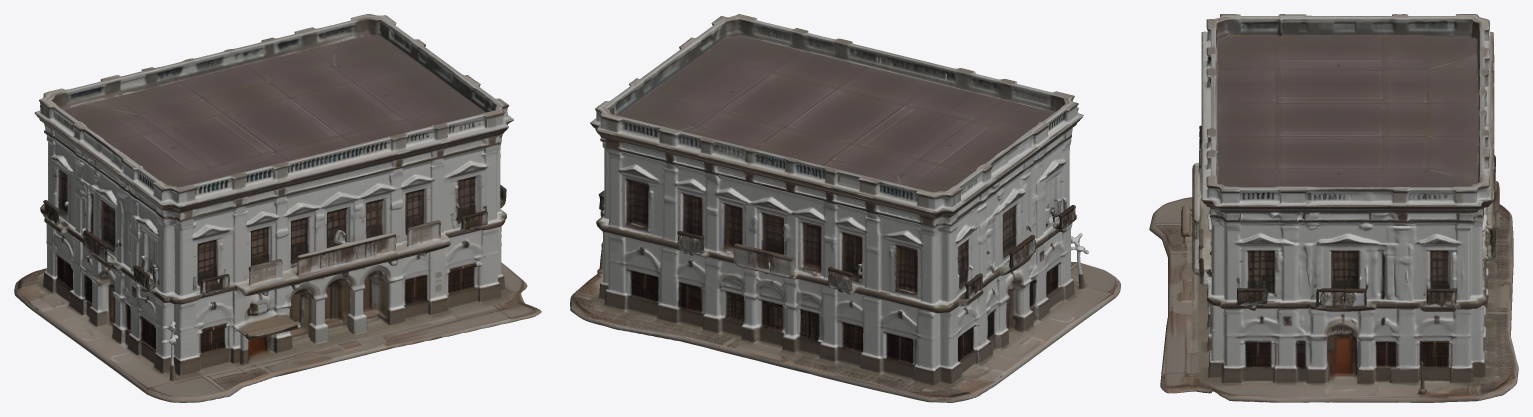
Rendered from tripo_convert_e79b919c-9081-4dce-b1e0-4ffe159cf52f.fbx.
3 renders of one model, left to right at view 1: azimuth 30°, elevation 25°; view 2: azimuth 150°, elevation 25°; view 3: azimuth 270°, elevation 25°, orthographic. The views are drawn at different scales.
Visible parts, largest first — view 1: tripo_node_e79b919c; view 2: tripo_node_e79b919c; view 3: tripo_node_e79b919c.
Boxes of the visible parts, x1,y1,x2,y2 form: tripo_node_e79b919c: (14,14,541,402); tripo_node_e79b919c: (570,14,1120,402); tripo_node_e79b919c: (1149,14,1518,402).
Size of the model in its own units: 1 by 0.4577 by 0.7664.
Materials: 1 (1 with a texture image).
